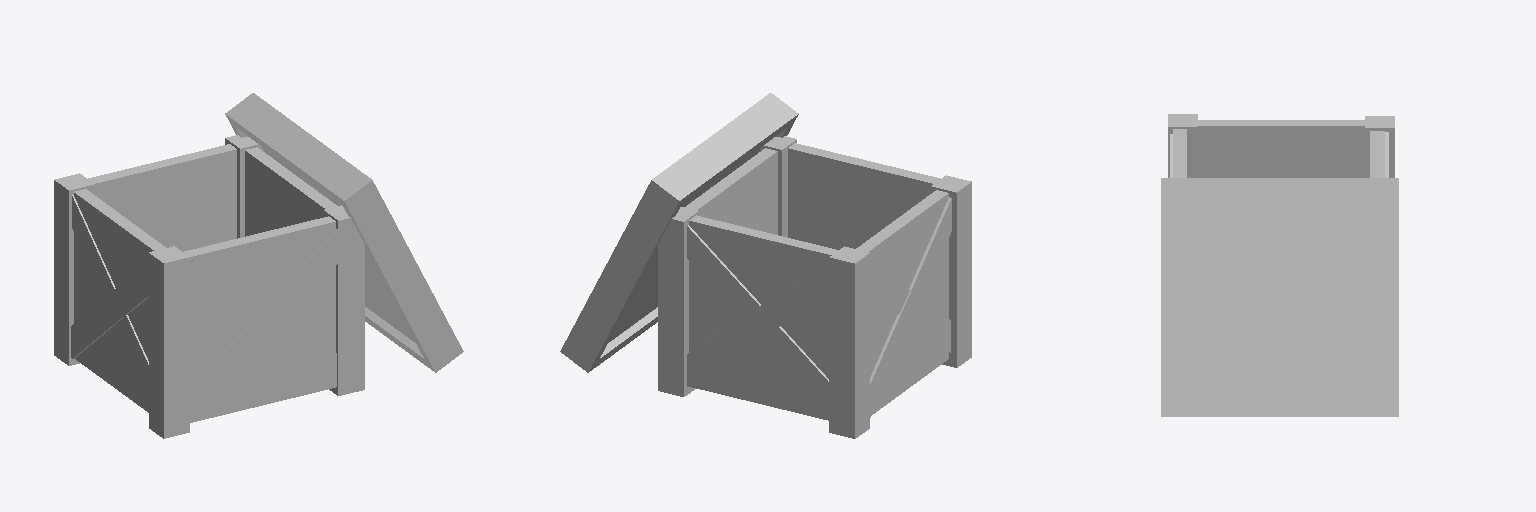
File: open crate.obj
The picture shows the model from 3 angles: view 1: azimuth 30°, elevation 25°; view 2: azimuth 150°, elevation 25°; view 3: azimuth 270°, elevation 25°; orthographic projection.
Parts seen in each view (by area): view 1: Open_crate1; view 2: Open_crate1; view 3: Open_crate1.
Boxes of the visible parts, <box> form: Open_crate1: <box>54,93,463,438</box>; Open_crate1: <box>560,93,971,438</box>; Open_crate1: <box>1161,114,1398,416</box>.
Size of the model in its own units: 98.66 by 67.39 by 68.83.